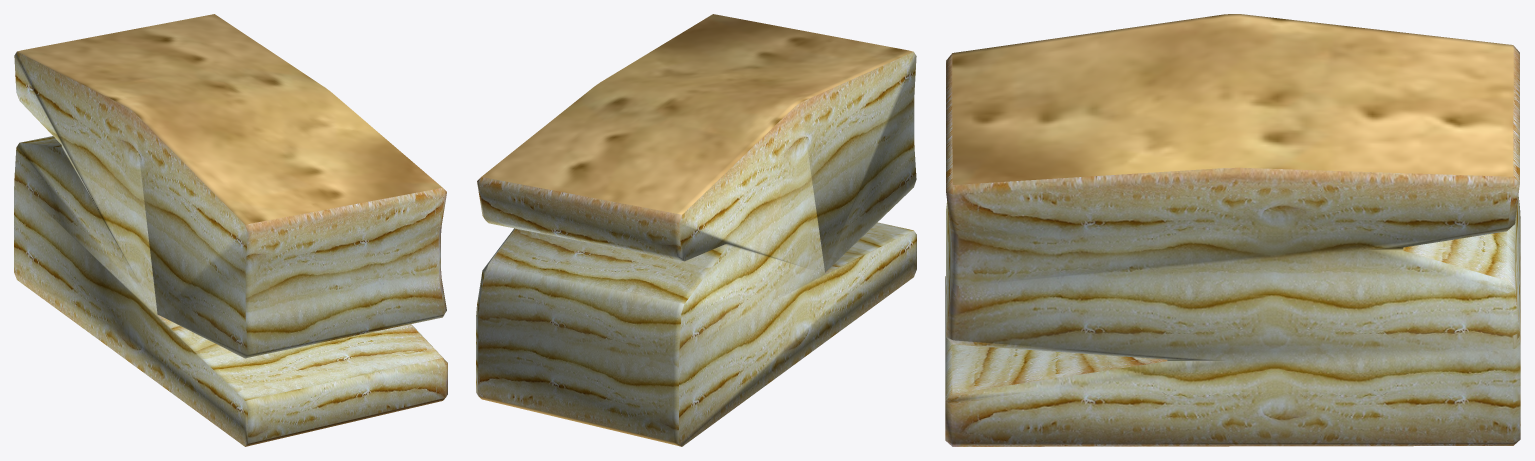
Rendered from MitadBizcochito2 (2).fbx.
3 views of the same model, side by side, from view 1: azimuth 30°, elevation 25°; view 2: azimuth 150°, elevation 25°; view 3: azimuth 270°, elevation 25° (orthographic). The views are drawn at different scales.
Visible parts, largest first — view 1: BizcochitoEntero.002; view 2: BizcochitoEntero.002; view 3: BizcochitoEntero.002.
Boxes of the visible parts, left/top/right/bottom form: BizcochitoEntero.002: left=14, top=14, right=447, bottom=446; BizcochitoEntero.002: left=476, top=14, right=916, bottom=446; BizcochitoEntero.002: left=945, top=14, right=1520, bottom=446.
Size of the model in its own units: 89.87 by 108 by 180.
